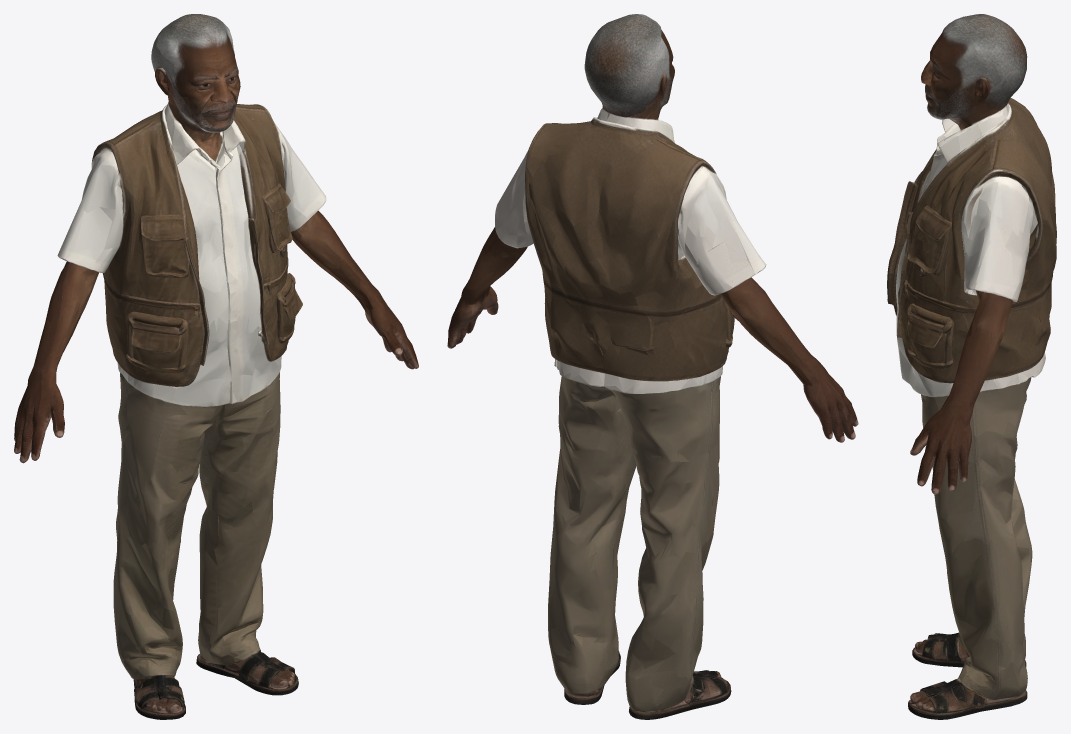
File: npc-carlos-boca.glb
The picture shows the model from 3 angles, left to right: view 1: azimuth 30°, elevation 25°; view 2: azimuth 150°, elevation 25°; view 3: azimuth 270°, elevation 25°; orthographic projection.
Parts seen in each view (by area): view 1: output_unwrapped; view 2: output_unwrapped; view 3: output_unwrapped.
Part boxes in pixels (x1,y1,x2,y2): output_unwrapped: (14,14,418,719); output_unwrapped: (447,14,858,719); output_unwrapped: (887,14,1056,719).
Size of the model in its own units: 1.18 by 1.9 by 0.4406.
Materials: 1 (1 with a texture image).
